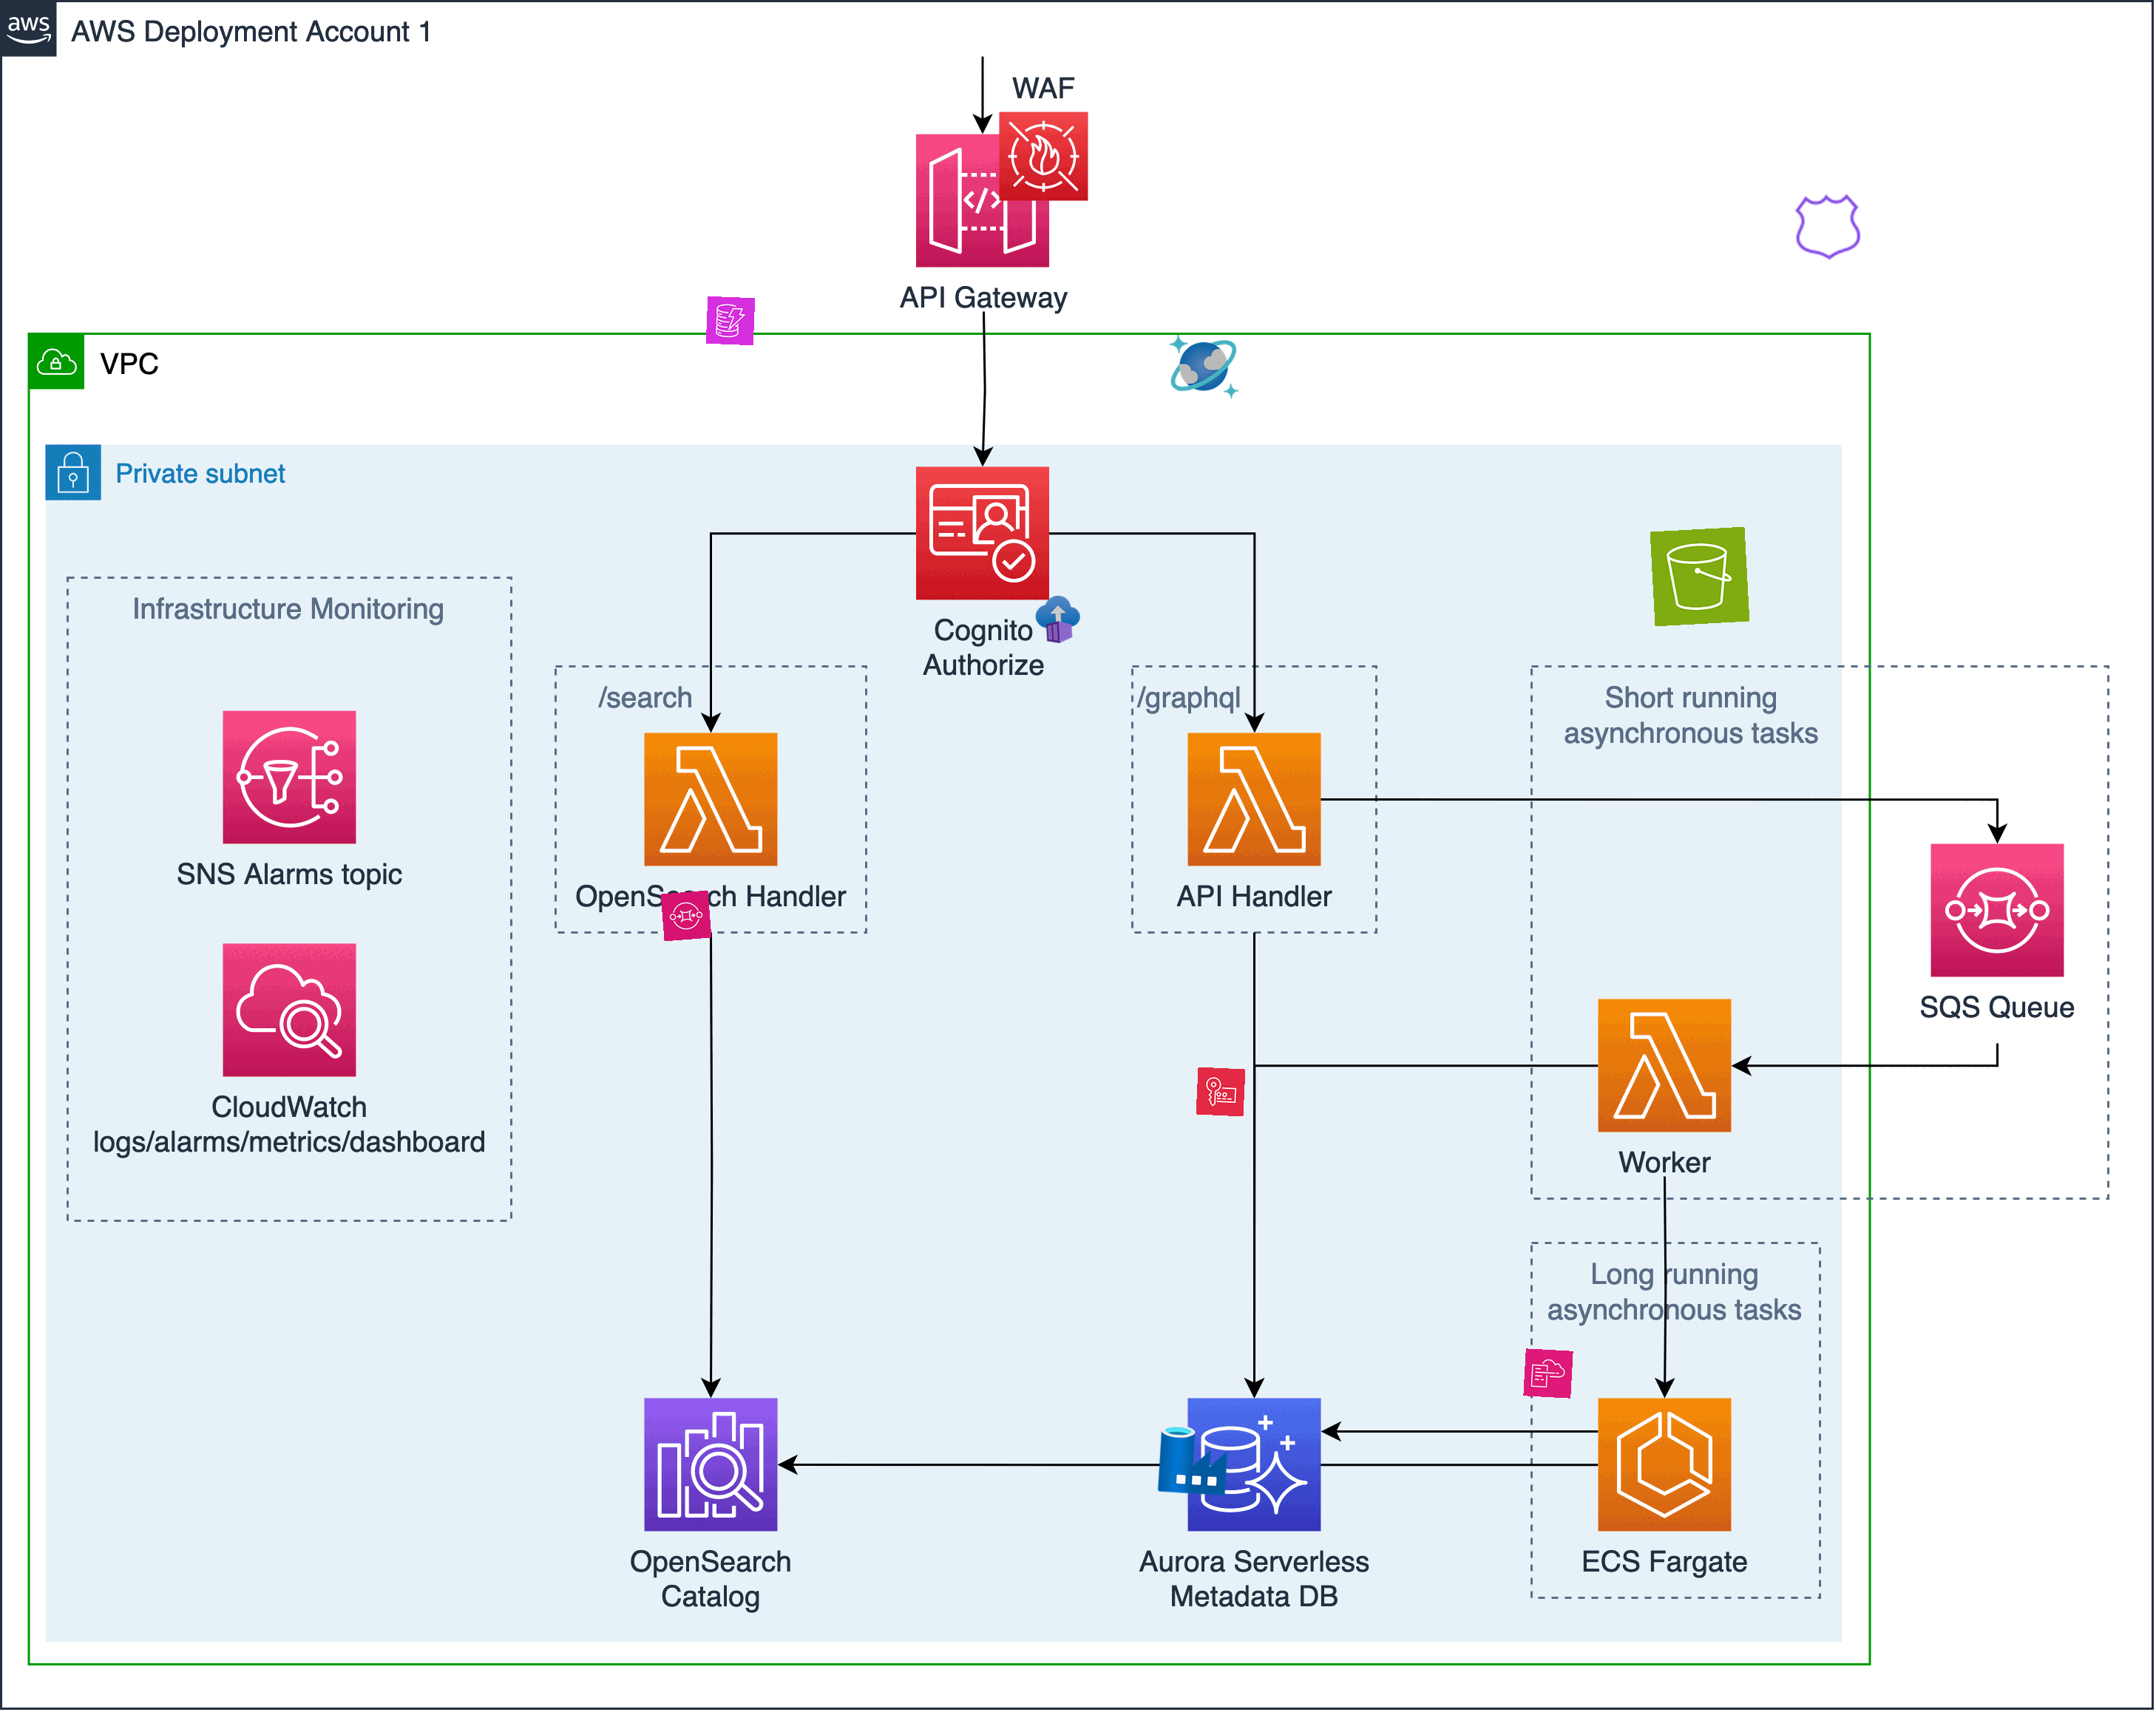aws_amazon_dynamodb: (705, 296, 756, 346)
aws_amazon_simple_queue_service: (660, 890, 712, 943)
aws_amazon_simple_storage_service: (1650, 526, 1750, 626)
aws_cloudformation: (1523, 1348, 1573, 1399)
aws_key_management_service: (1195, 1067, 1246, 1117)
aws_route_53_hosted_zone: (1790, 189, 1866, 264)
azure_container_instances: (1032, 595, 1083, 645)
azure_cosmos_db: (1165, 329, 1241, 404)
azure_data_factories: (1155, 1422, 1230, 1497)
